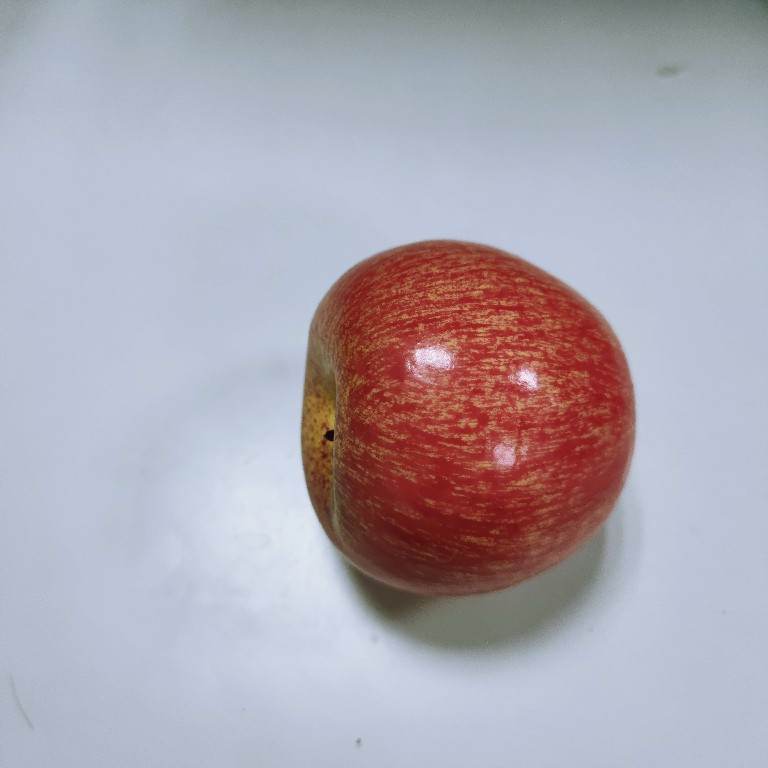fruit_apple: (294, 232, 642, 607)
